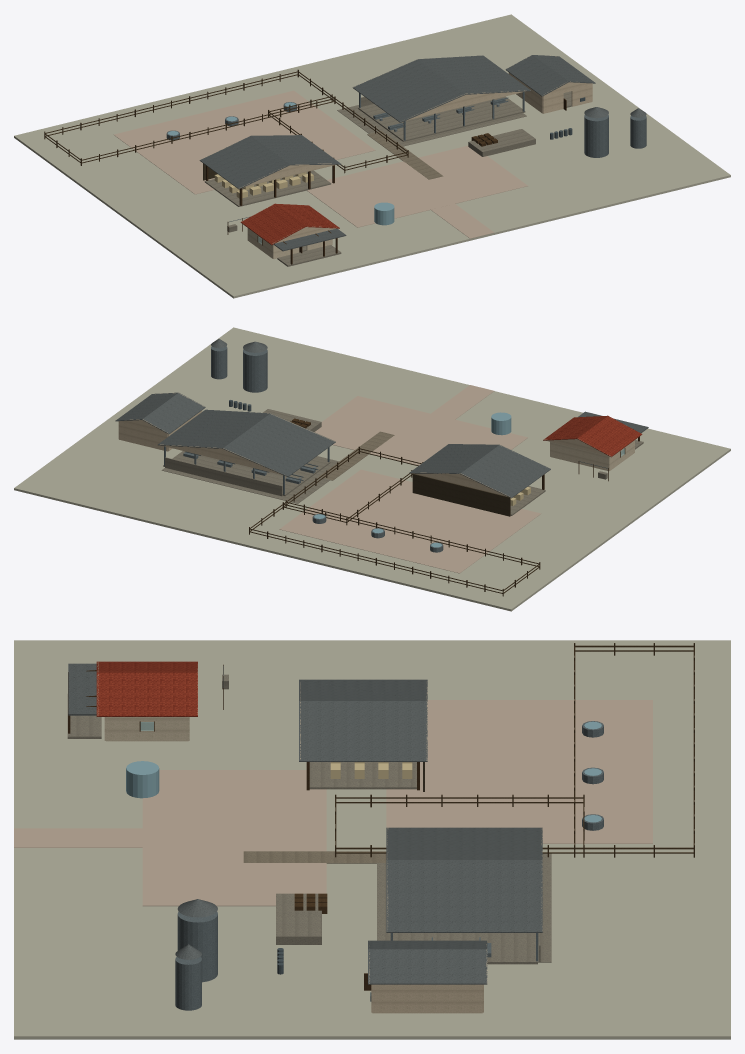
File: LRP05.gltf
The picture shows the model from 3 angles, top to bottom: view 1: azimuth 30°, elevation 25°; view 2: azimuth 150°, elevation 25°; view 3: azimuth 270°, elevation 25°; orthographic projection. The views are drawn at different scales.
Parts seen in each view (by area): view 1: EST_SOFT_TERRENO_0000_SOLO_ESTUDO_SEM_VEGETACAO, TERRENO_0005_AREA_CURRAL, TERRENO_0002_TERREIRO_PRINCIPAL, ARQUITETURA_0048_GALPAO_ORDENHA_AGUA_1, ARQUITETURA_0037_ORDENHA_PLATAFORMA, ARQUITETURA_0049_GALPAO_ORDENHA_AGUA_2, ARQUITETURA_0111_GALPAO_FENO_AGUA_1, ARQUITETURA_0112_GALPAO_FENO_AGUA_2, ARQUITETURA_0020_CASA_PRODUTOR_AGUA_1, ARQUITETURA_0093_SALA_RESFRIAMENTO_AGUA_1, TERRENO_0003_PISO_ORDENHA, ARQUITETURA_0102_DEPOSITO_FENO_PISO (+11 smaller); view 2: EST_SOFT_TERRENO_0000_SOLO_ESTUDO_SEM_VEGETACAO, TERRENO_0005_AREA_CURRAL, TERRENO_0002_TERREIRO_PRINCIPAL, ARQUITETURA_0048_GALPAO_ORDENHA_AGUA_1, ARQUITETURA_0049_GALPAO_ORDENHA_AGUA_2, ARQUITETURA_0111_GALPAO_FENO_AGUA_1, ARQUITETURA_0115_GALPAO_FENO_FUNDO, ARQUITETURA_0112_GALPAO_FENO_AGUA_2, ARQUITETURA_0037_ORDENHA_PLATAFORMA, ARQUITETURA_0020_CASA_PRODUTOR_AGUA_1, ARQUITETURA_0093_SALA_RESFRIAMENTO_AGUA_1, ARQUITETURA_0052_ORDENHA_MURETA_FUNDO (+11 smaller); view 3: EST_SOFT_TERRENO_0000_SOLO_ESTUDO_SEM_VEGETACAO, TERRENO_0005_AREA_CURRAL, TERRENO_0002_TERREIRO_PRINCIPAL, ARQUITETURA_0049_GALPAO_ORDENHA_AGUA_2, ARQUITETURA_0112_GALPAO_FENO_AGUA_2, ARQUITETURA_0048_GALPAO_ORDENHA_AGUA_1, ARQUITETURA_0021_CASA_PRODUTOR_AGUA_2, ARQUITETURA_0094_SALA_RESFRIAMENTO_AGUA_2, ARQUITETURA_0089_SALA_RESFRIAMENTO_PAREDE_LATERAL_45, ARQUITETURA_0111_GALPAO_FENO_AGUA_1, TERRENO_0001_ACESSO_TERRA, ARQUITETURA_0102_DEPOSITO_FENO_PISO (+13 smaller).
Part boxes in pixels (x1,y1,x2,y2): EST_SOFT_TERRENO_0000_SOLO_ESTUDO_SEM_VEGETACAO: (14, 14, 730, 298); TERRENO_0005_AREA_CURRAL: (114, 90, 375, 194); TERRENO_0002_TERREIRO_PRINCIPAL: (307, 145, 527, 227); ARQUITETURA_0048_GALPAO_ORDENHA_AGUA_1: (352, 59, 465, 122); ARQUITETURA_0037_ORDENHA_PLATAFORMA: (358, 96, 525, 141); ARQUITETURA_0049_GALPAO_ORDENHA_AGUA_2: (418, 55, 530, 94); ARQUITETURA_0111_GALPAO_FENO_AGUA_1: (199, 136, 289, 189); ARQUITETURA_0112_GALPAO_FENO_AGUA_2: (251, 135, 341, 165); ARQUITETURA_0020_CASA_PRODUTOR_AGUA_1: (240, 204, 305, 245); ARQUITETURA_0093_SALA_RESFRIAMENTO_AGUA_1: (505, 55, 568, 96); TERRENO_0003_PISO_ORDENHA: (337, 105, 526, 146); ARQUITETURA_0102_DEPOSITO_FENO_PISO: (204, 170, 331, 206); EST_SOFT_TERRENO_0000_SOLO_ESTUDO_SEM_VEGETACAO: (14, 327, 730, 611); TERRENO_0005_AREA_CURRAL: (279, 469, 541, 573); TERRENO_0002_TERREIRO_PRINCIPAL: (314, 396, 527, 465); ARQUITETURA_0048_GALPAO_ORDENHA_AGUA_1: (223, 413, 335, 476); ARQUITETURA_0049_GALPAO_ORDENHA_AGUA_2: (158, 409, 270, 448); ARQUITETURA_0111_GALPAO_FENO_AGUA_1: (460, 445, 550, 498); ARQUITETURA_0115_GALPAO_FENO_FUNDO: (412, 473, 510, 516); ARQUITETURA_0112_GALPAO_FENO_AGUA_2: (409, 444, 499, 473); ARQUITETURA_0037_ORDENHA_PLATAFORMA: (163, 451, 330, 495); ARQUITETURA_0020_CASA_PRODUTOR_AGUA_1: (577, 416, 642, 457); ARQUITETURA_0093_SALA_RESFRIAMENTO_AGUA_1: (142, 393, 205, 433); ARQUITETURA_0052_ORDENHA_MURETA_FUNDO: (165, 457, 282, 496); EST_SOFT_TERRENO_0000_SOLO_ESTUDO_SEM_VEGETACAO: (14, 640, 730, 1039); TERRENO_0005_AREA_CURRAL: (386, 700, 652, 843); TERRENO_0002_TERREIRO_PRINCIPAL: (142, 770, 326, 906); ARQUITETURA_0049_GALPAO_ORDENHA_AGUA_2: (386, 860, 542, 932); ARQUITETURA_0112_GALPAO_FENO_AGUA_2: (299, 701, 427, 761); ARQUITETURA_0048_GALPAO_ORDENHA_AGUA_1: (386, 827, 542, 859); ARQUITETURA_0021_CASA_PRODUTOR_AGUA_2: (96, 672, 197, 716); ARQUITETURA_0094_SALA_RESFRIAMENTO_AGUA_2: (368, 949, 487, 984); ARQUITETURA_0089_SALA_RESFRIAMENTO_PAREDE_LATERAL_45: (372, 984, 482, 1013); ARQUITETURA_0111_GALPAO_FENO_AGUA_1: (299, 679, 427, 700); TERRENO_0001_ACESSO_TERRA: (14, 828, 142, 847); ARQUITETURA_0102_DEPOSITO_FENO_PISO: (309, 762, 416, 789).
Bounding box in the file's own units: 102 × 9.44 × 78.
9 materials, 7 textured.
